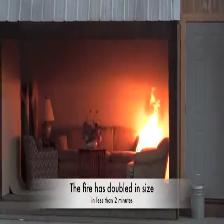fire: (134, 90, 169, 154)
